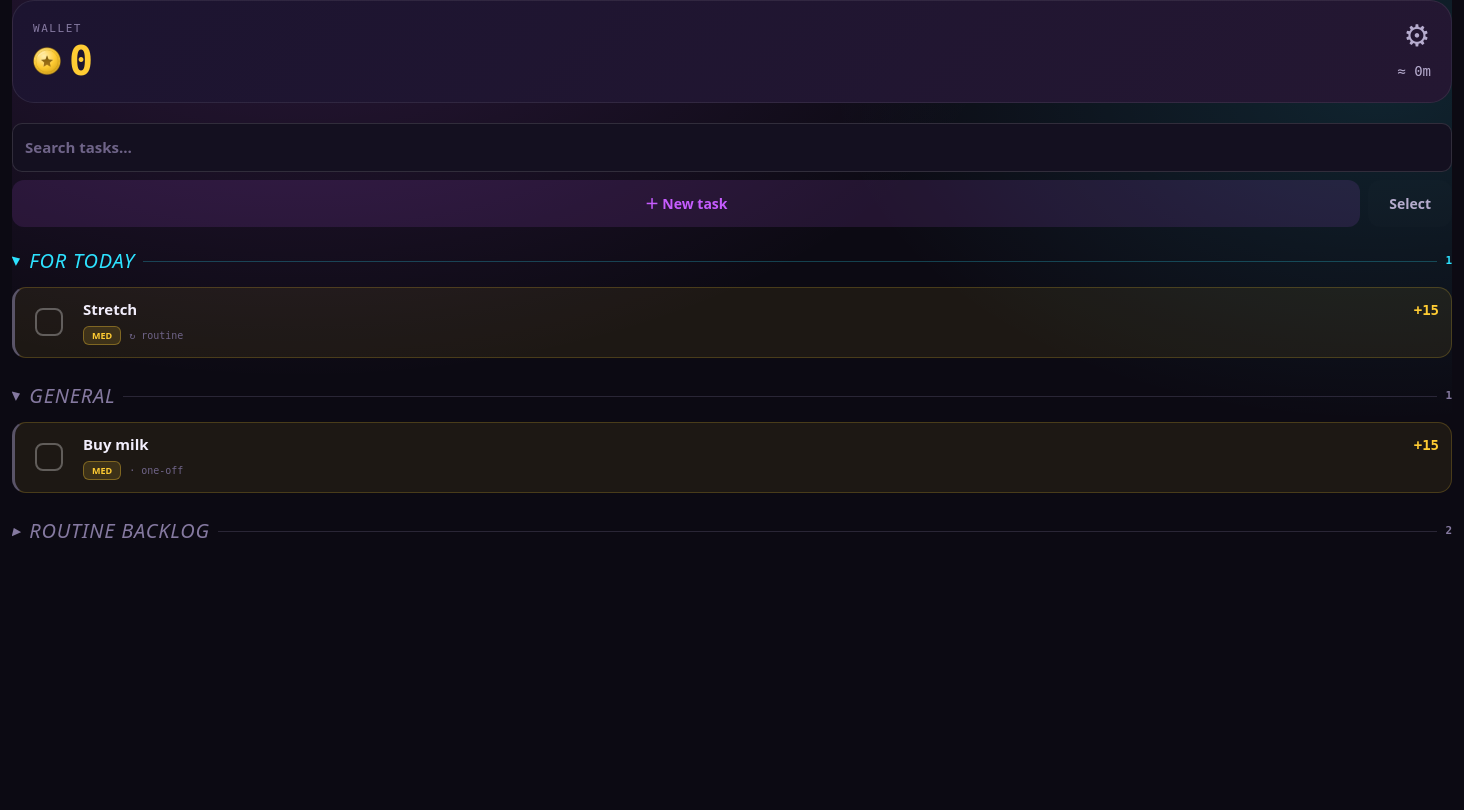
Test: leaving the mode › restores the search, the New task button and completion
Expected: the button "Buy milk" is shown, [83,435,1402,453]
Click the button "▶ Routine backlog". click: (111, 531)
box: [12,509,210,553]
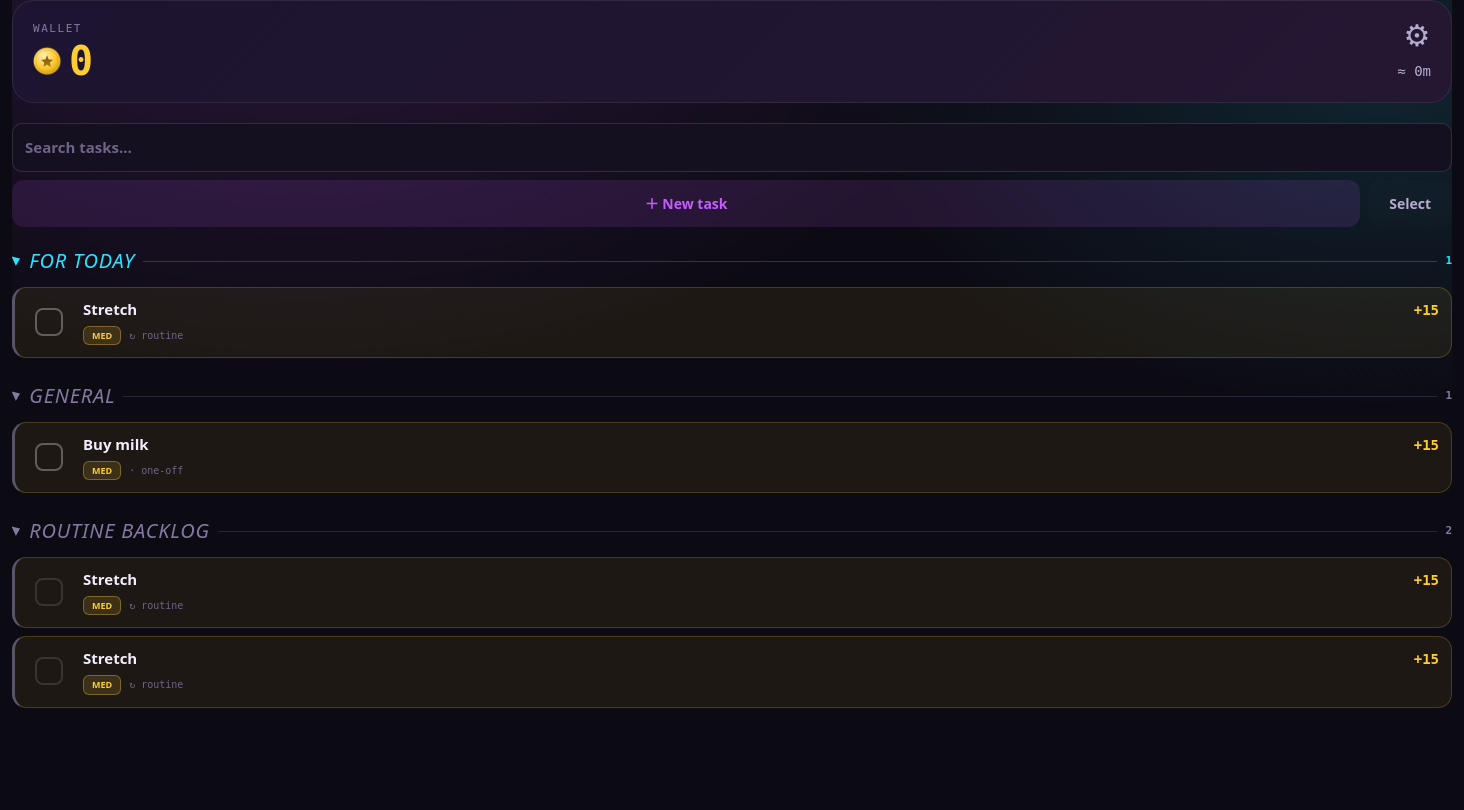
Click the button "Select". click: (1410, 204)
box: [1368,180,1452,227]
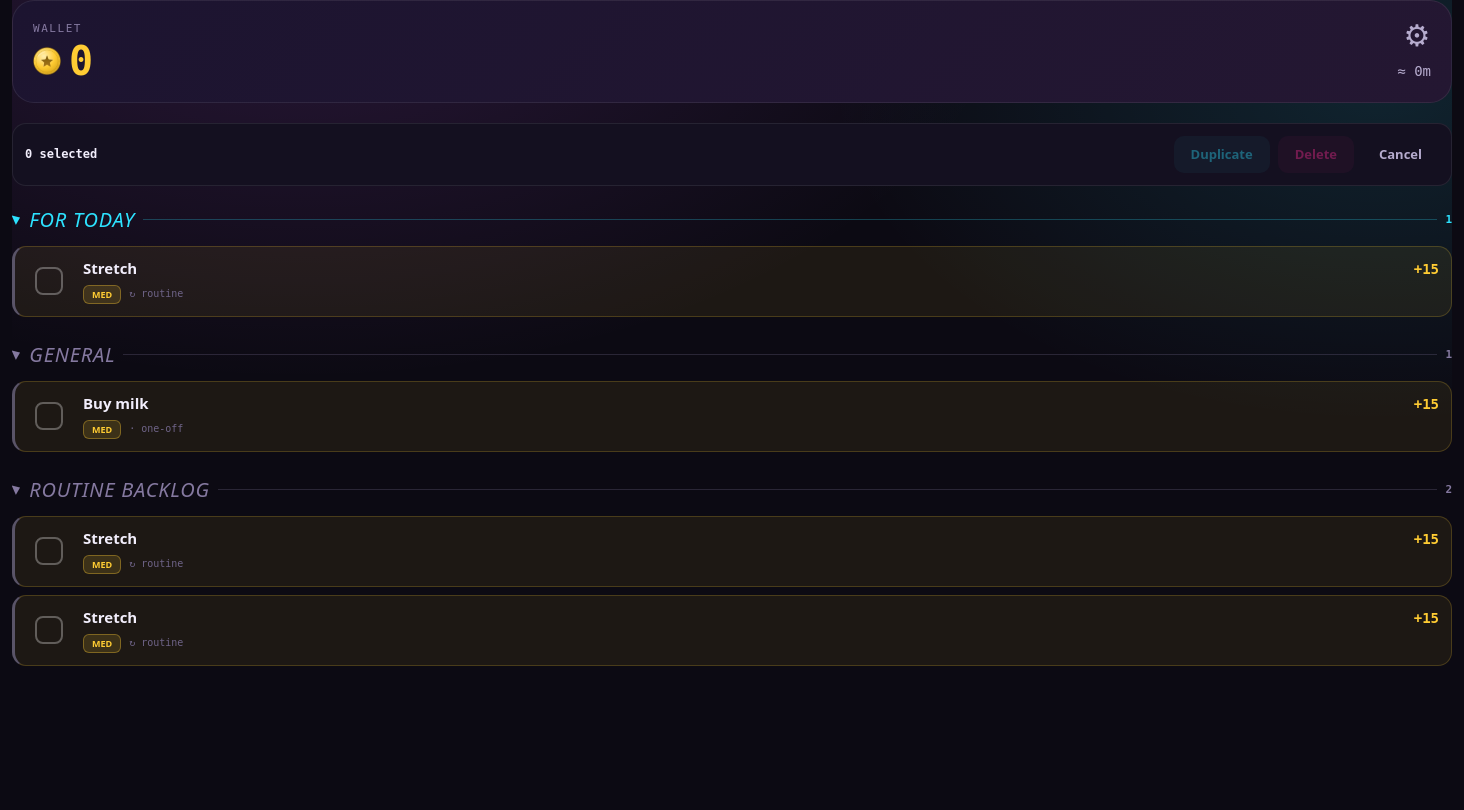
Click the button "Cancel". click: (1400, 154)
box: [1362,136,1439,173]
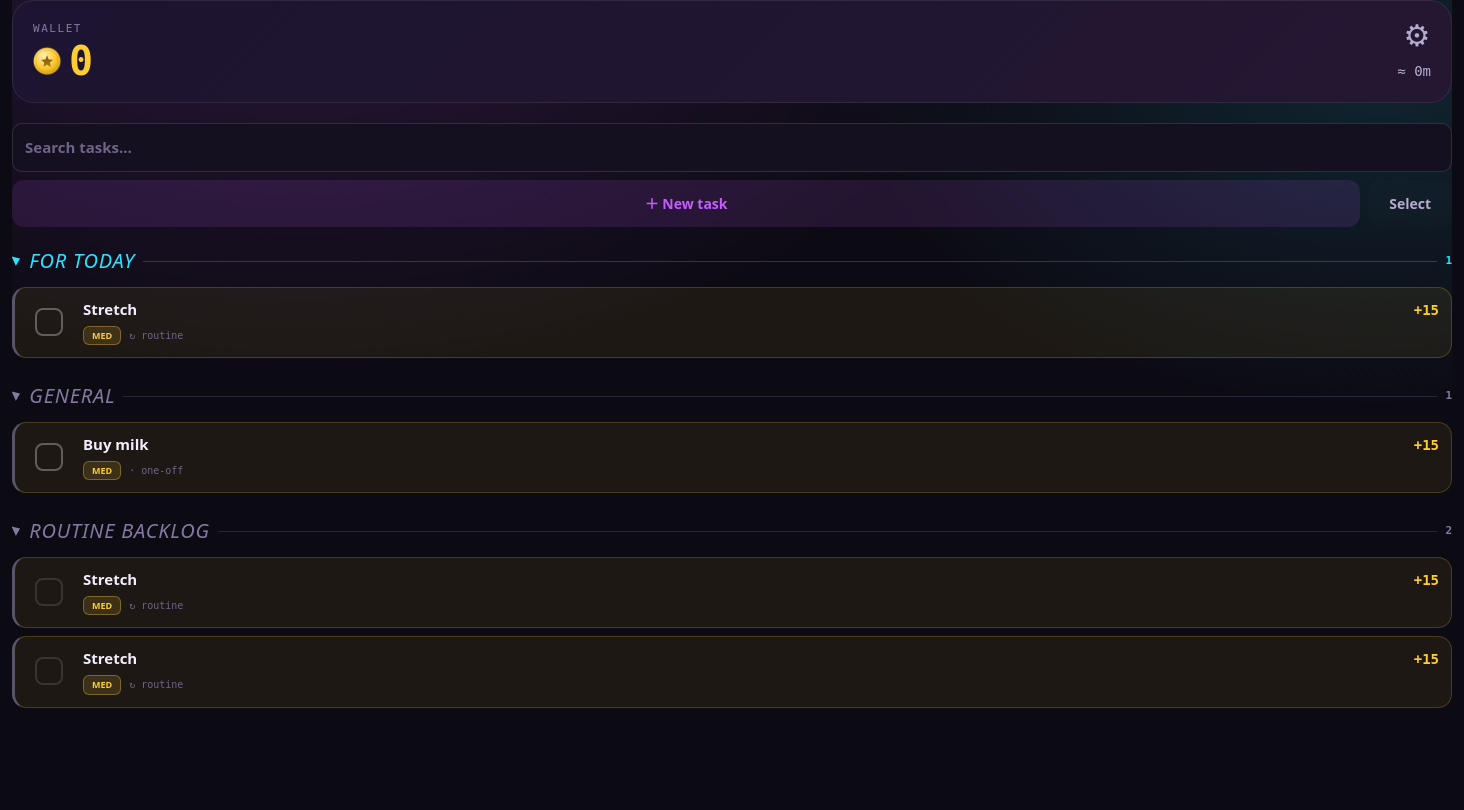
Expected: the checkbox named "Stretch" is shown, [35,308,63,336]
Result: the search field labelled "Search tasks…" is shown at [12,123,1452,172]
Result: the button "＋ New task" is shown at [12,180,1360,227]
